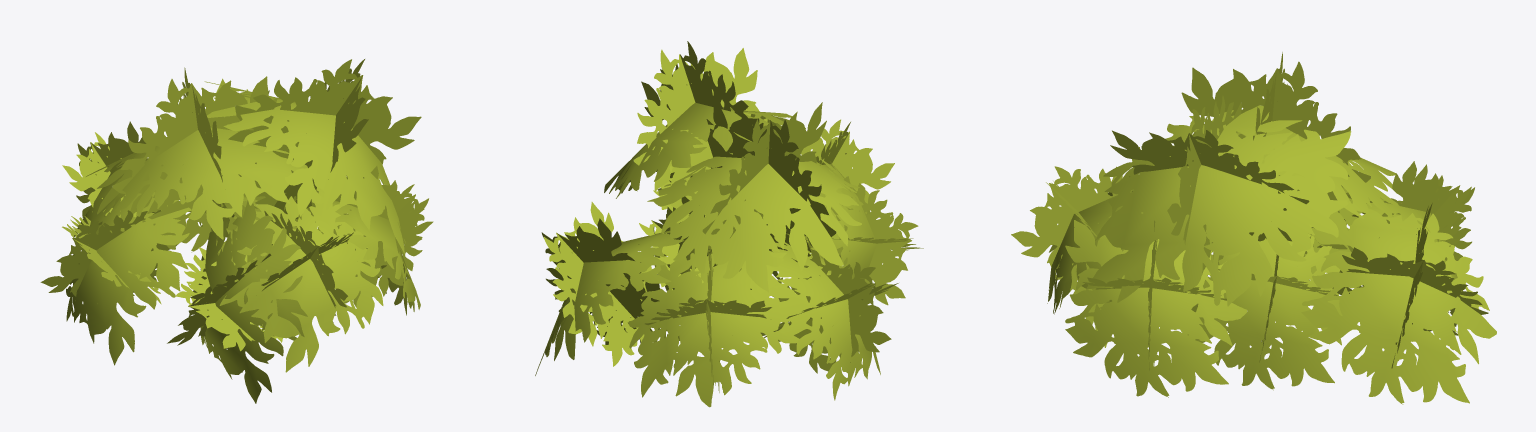
File: treeTopMid.fbx
The picture shows the model from 3 angles, left to right: view 1: azimuth 30°, elevation 25°; view 2: azimuth 150°, elevation 25°; view 3: azimuth 270°, elevation 25°; orthographic projection. The views are drawn at different scales.
Visible parts, largest first — view 1: treeTopMid; view 2: treeTopMid; view 3: treeTopMid.
Boxes of the visible parts, bbox=[...] form: treeTopMid: bbox=[40, 59, 433, 403]; treeTopMid: bbox=[535, 41, 923, 407]; treeTopMid: bbox=[1011, 52, 1496, 404].
Size of the model in its own units: 663 by 578 by 748.
